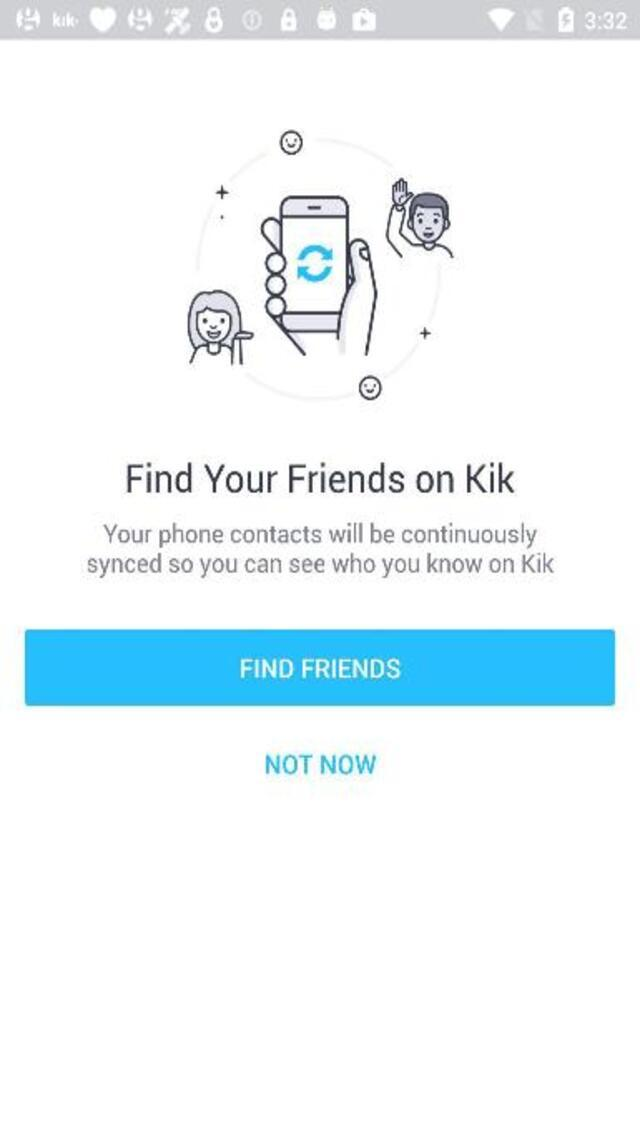Image: (185, 130, 453, 404)
Text: (122, 460, 516, 496), (100, 521, 540, 548), (86, 552, 556, 577), (237, 656, 408, 682), (266, 754, 376, 774)
TextButton: (24, 629, 614, 705)
